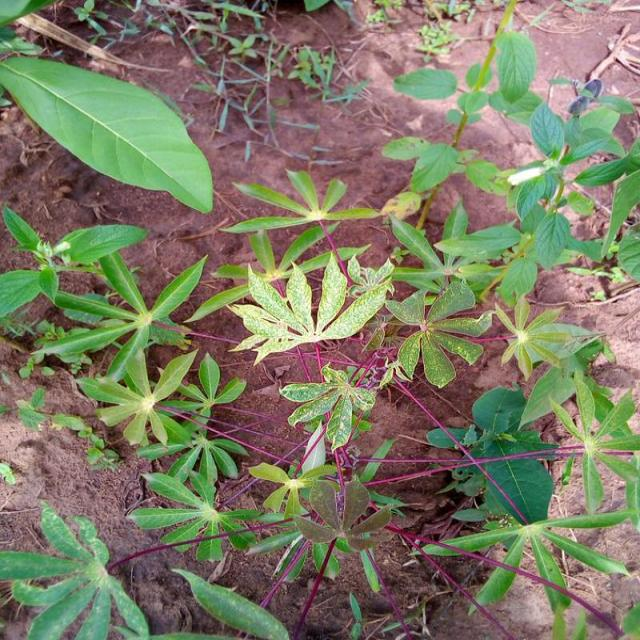cassava leaf: (0, 52, 214, 214)
